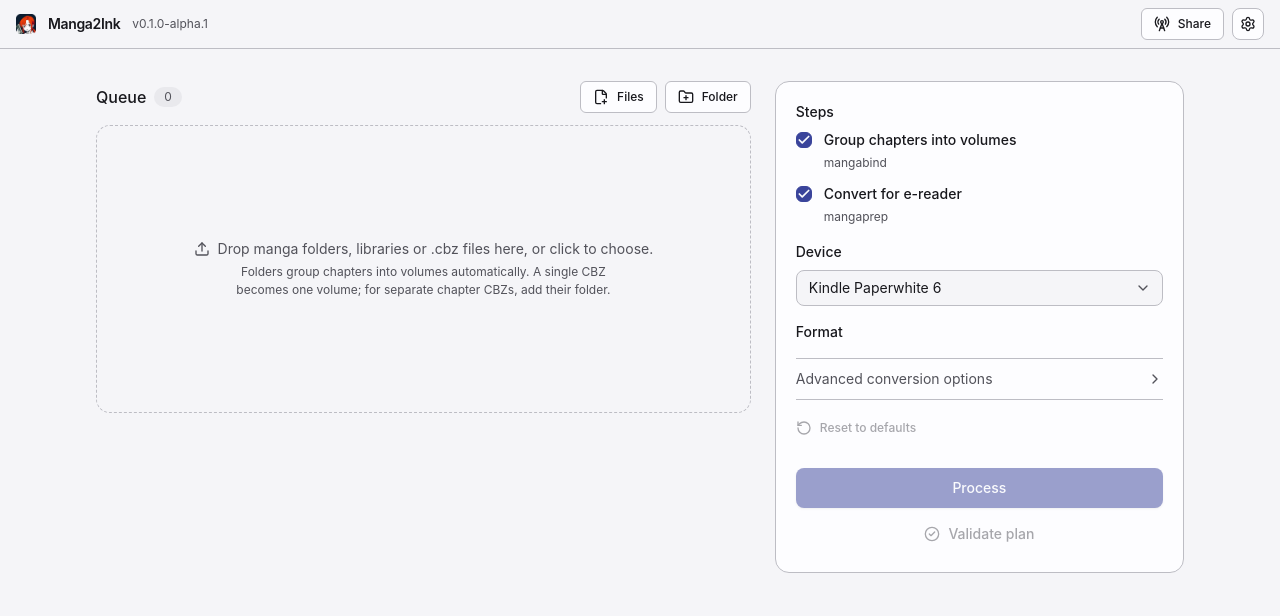
it: queue application workflow › says on the row that a folder holds no manga because they are links, not to turn grouping off
The image size is (1280, 616).
Click the button "Folder": [708, 97] box [665, 81, 751, 113]
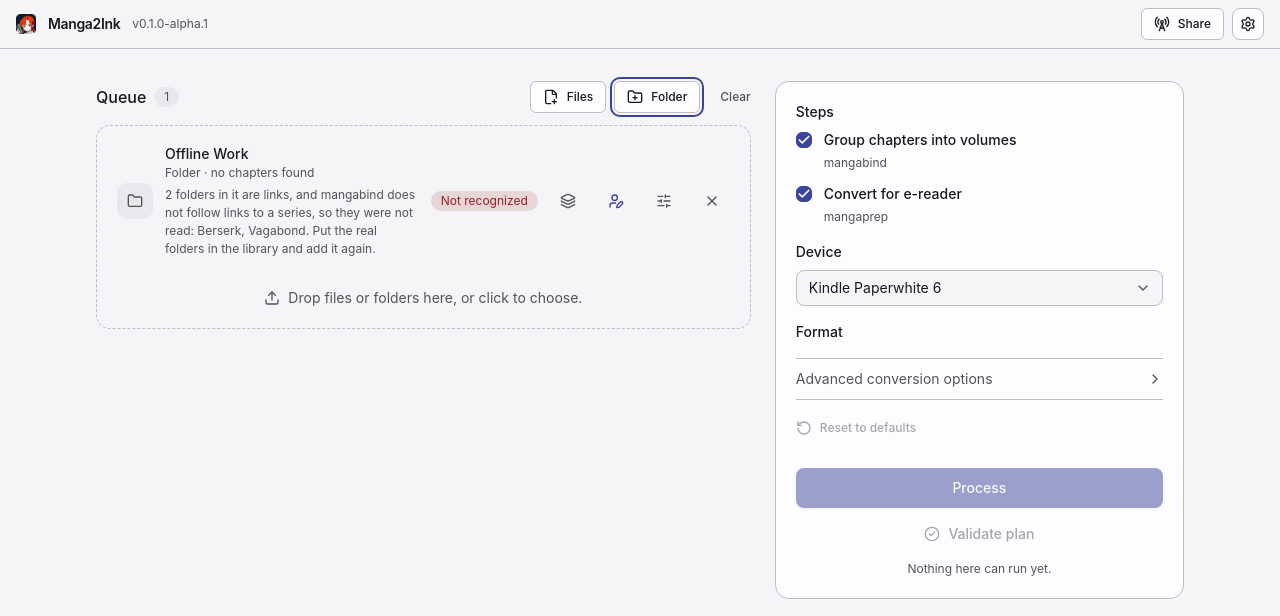
Expected: the text "2 folders in it are links, and mangabind does not follow links to a series, so they were not read: Berserk, Vagabond. Pu" is shown, [165, 187, 415, 256]
